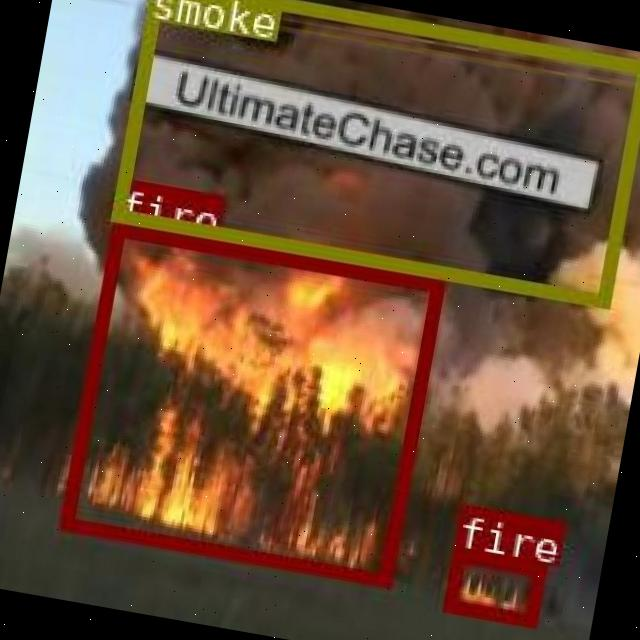fire: (57, 222, 442, 585), (440, 548, 543, 624)
smoke: (109, 0, 640, 305)
